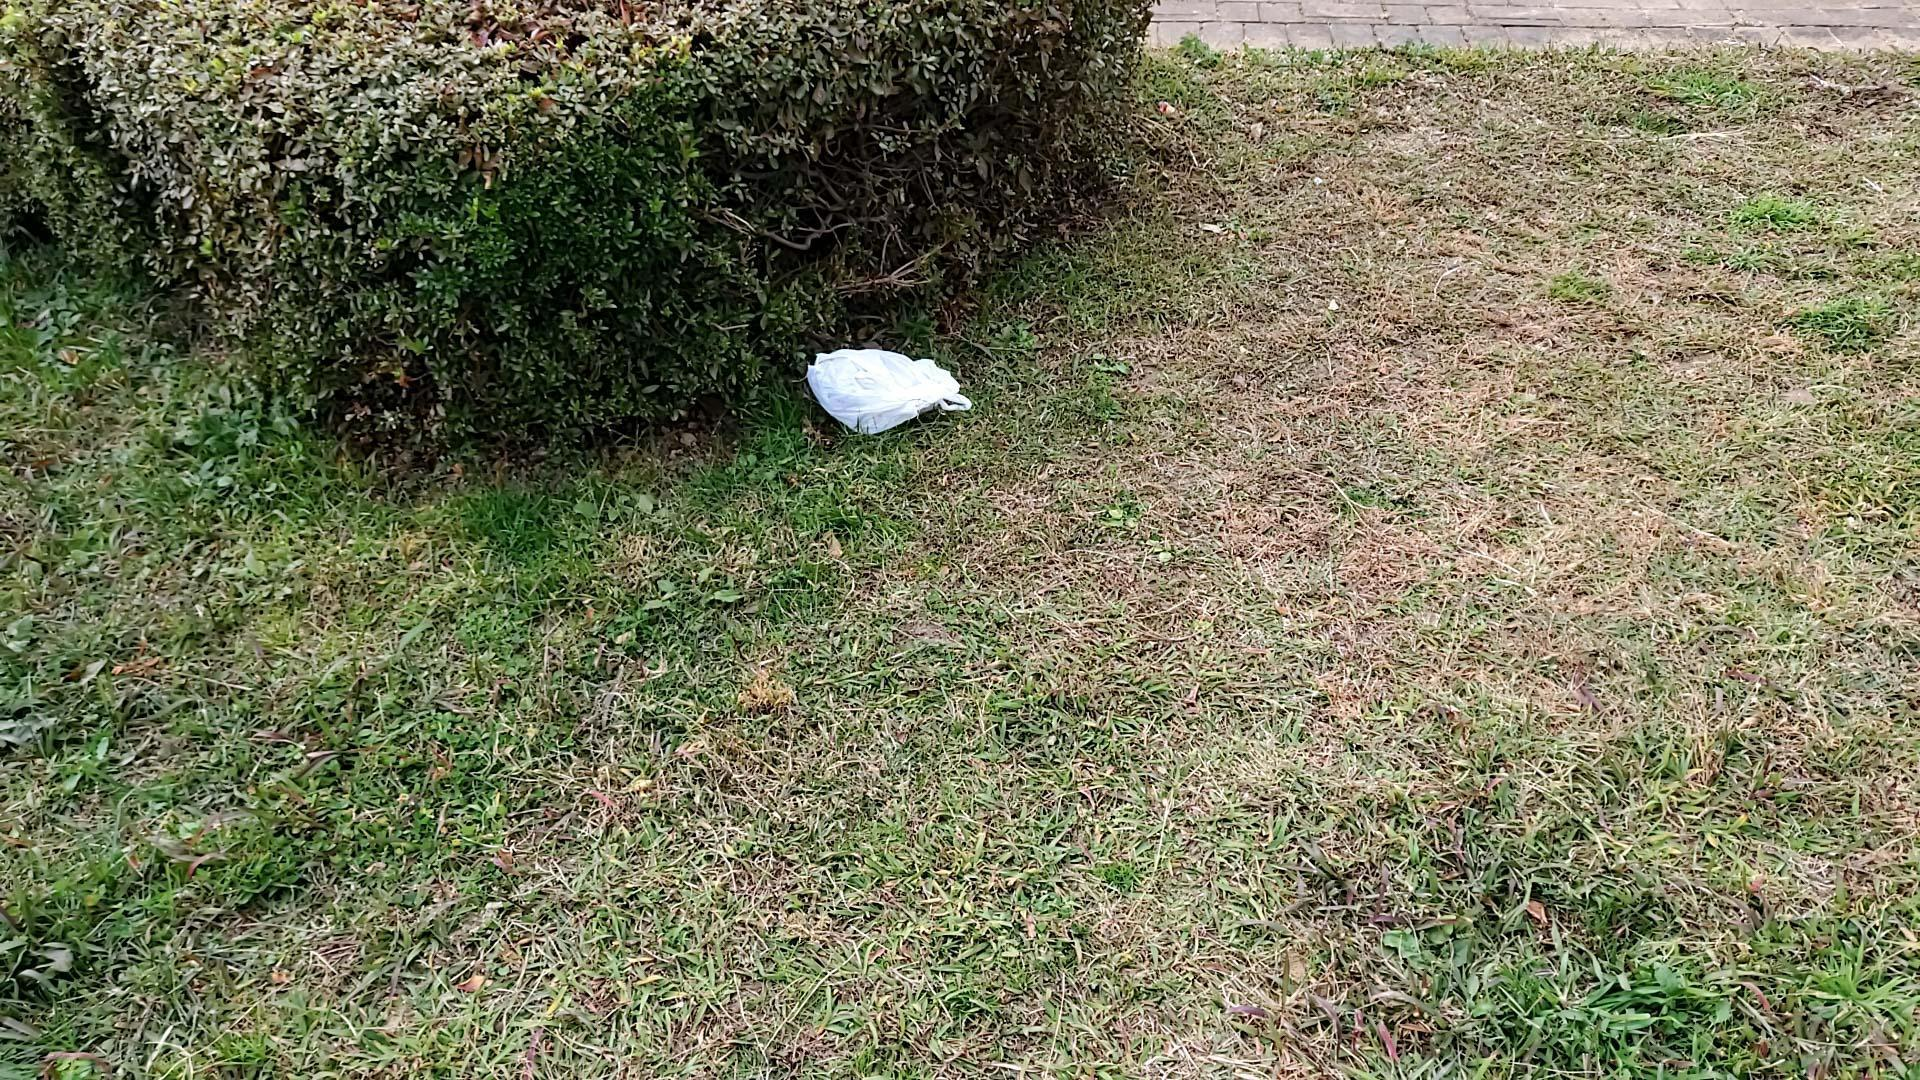white_bag: (800, 344, 982, 444)
